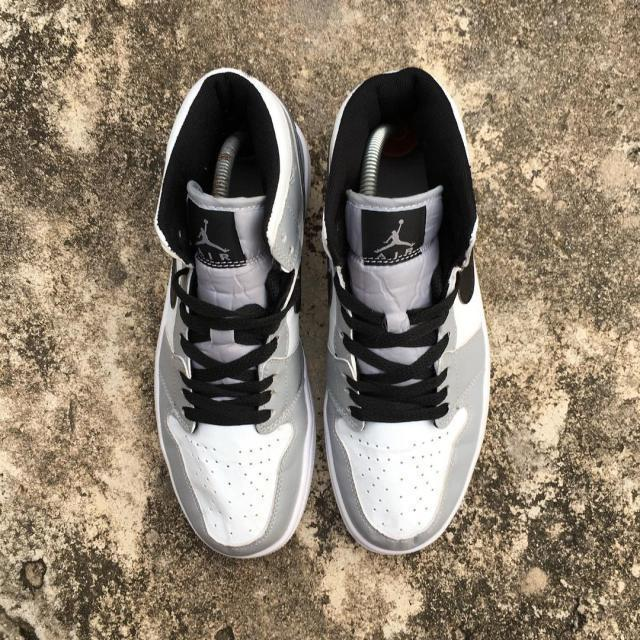nike fake jordan 1: (314, 71, 493, 562), (149, 66, 325, 564)
